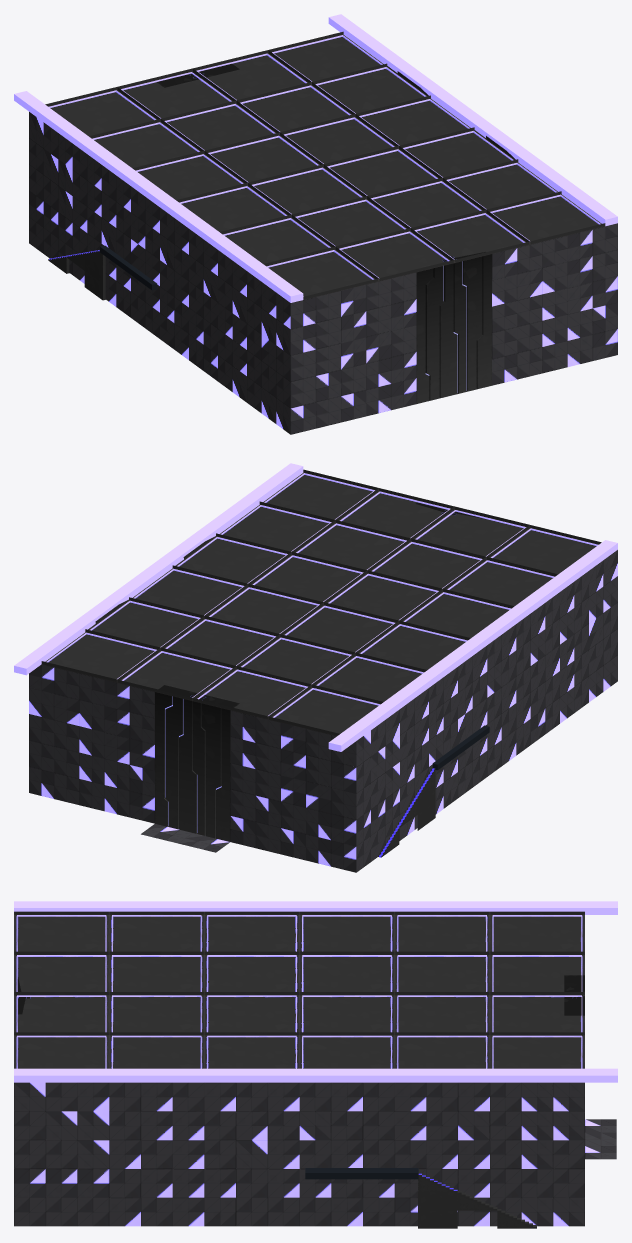
File: landmark_scene.fbx
3 renders of one model, top to bottom at view 1: azimuth 30°, elevation 25°; view 2: azimuth 150°, elevation 25°; view 3: azimuth 270°, elevation 25°, orthographic. The views are drawn at different scales.
Visible parts, largest first — view 1: landmarkceilling, landmarkfrontwall, landmarkleftwall, landmarkareaboxright, landmarkdoorleft, landmarkareaboxleft, landmarkdoorright, rightstair, stairbar; view 2: landmarkceilling, landmarkbackwall, landmarkleftwall, landmarkdoorleft__1_, landmarkareaboxright, landmarkareaboxleft, landmarkdoorright__1_, rightstair, landmarktilefloor, stairbar; view 3: landmarkceilling, landmarkrightwall, landmarkareaboxleft, landmarkareaboxright, leftstair, stairbar, landmarktilefloor.
Part boxes in pixels (x1,y1,x2,y2): landmarkceilling: (45, 31, 605, 299); landmarkfrontwall: (290, 223, 617, 434); landmarkleftwall: (29, 112, 290, 434); landmarkareaboxright: (14, 91, 303, 302); landmarkdoorleft: (416, 256, 457, 403); landmarkareaboxleft: (328, 14, 617, 226); landmarkdoorright: (442, 252, 491, 393); rightstair: (48, 250, 105, 300); stairbar: (100, 245, 157, 290); landmarkceilling: (41, 469, 601, 736); landmarkbackwall: (29, 664, 356, 872); landmarkleftwall: (356, 550, 617, 872); landmarkdoorleft__1_: (155, 685, 205, 833); landmarkareaboxright: (328, 540, 617, 751); landmarkareaboxleft: (14, 463, 303, 675); landmarkdoorright__1_: (190, 694, 239, 841); rightstair: (378, 768, 435, 857); landmarktilefloor: (141, 823, 229, 852); stairbar: (432, 725, 489, 770); landmarkceilling: (14, 911, 584, 1068); landmarkrightwall: (14, 1082, 584, 1226); landmarkareaboxleft: (14, 1068, 617, 1082); landmarkareaboxright: (14, 901, 617, 914); leftstair: (418, 1173, 536, 1228); stairbar: (305, 1168, 418, 1179); landmarktilefloor: (585, 1119, 616, 1159).
Bounding box in the file's own units: 2138 × 834 × 2998.
